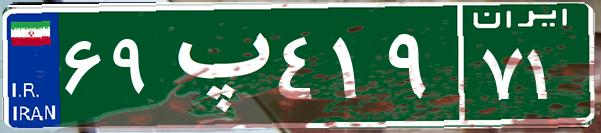1: (330, 28, 385, 110), (525, 38, 570, 115)
4: (273, 28, 330, 110)
6: (57, 26, 110, 107)
7: (475, 38, 525, 113)
9: (385, 28, 445, 110), (110, 28, 158, 105)
پ: (158, 15, 273, 115)
